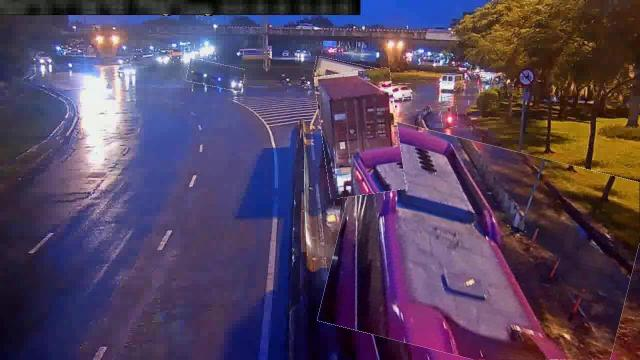Bike: (442, 106, 458, 128)
Bus: (328, 131, 640, 359)
Car: (382, 84, 416, 100)
Truck: (318, 69, 402, 197), (313, 60, 379, 88), (187, 61, 245, 89)
